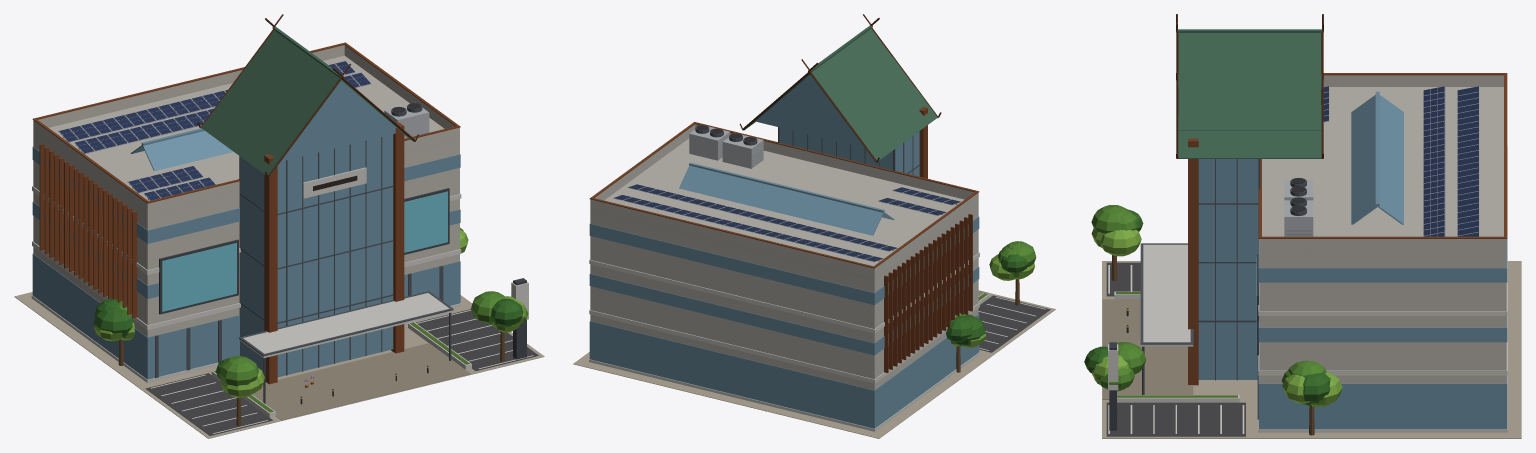
Rendered from shop_5.glb.
3 renders of one model, left to right at view 1: azimuth 30°, elevation 25°; view 2: azimuth 150°, elevation 25°; view 3: azimuth 270°, elevation 25°, orthographic. The views are drawn at different scales.
Parts seen in each view (by area): view 1: body, windows; view 2: body; view 3: body.
Boxes of the visible parts, x1=… form: body: x1=14, y1=14, x2=544, y2=438; windows: x1=162, y1=191, x2=447, y2=398; body: x1=573, y1=14, x2=1055, y2=438; body: x1=1084, y1=14, x2=1521, y2=438.
Size of the model in its own units: 34.82 by 28.06 by 33.25.
